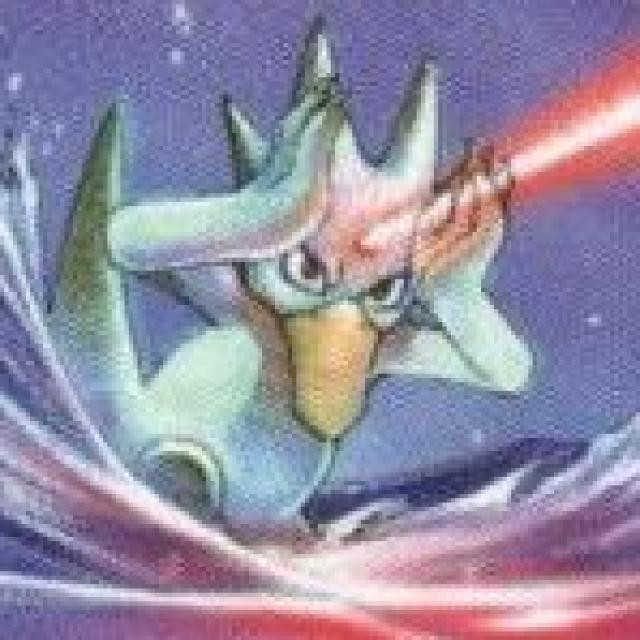Golduck: (99, 63, 502, 524)
